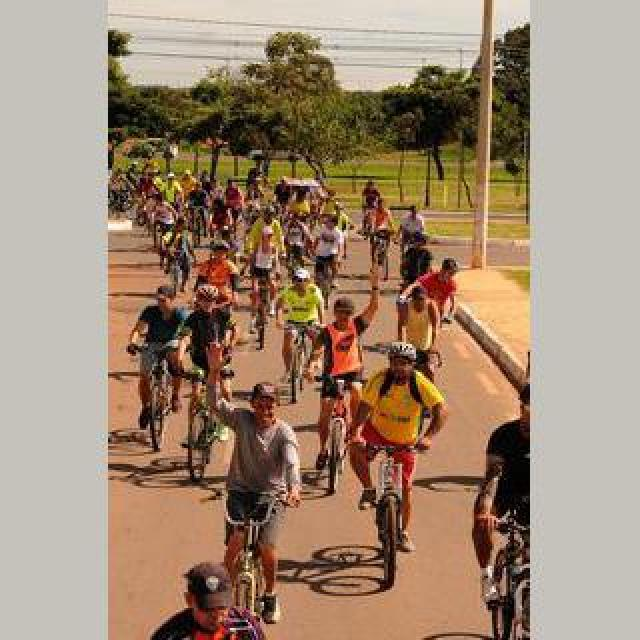MC-Bike: (348, 342, 446, 552), (220, 384, 304, 620), (314, 292, 374, 460), (150, 560, 268, 640), (126, 290, 182, 442), (276, 270, 324, 382), (190, 248, 238, 356), (400, 258, 460, 330), (246, 212, 282, 318), (310, 214, 342, 290)
Person: (200, 490, 284, 630), (360, 436, 426, 588), (480, 504, 530, 640), (130, 340, 182, 454), (316, 378, 360, 496), (180, 370, 226, 482), (282, 320, 318, 404), (316, 256, 340, 308)
